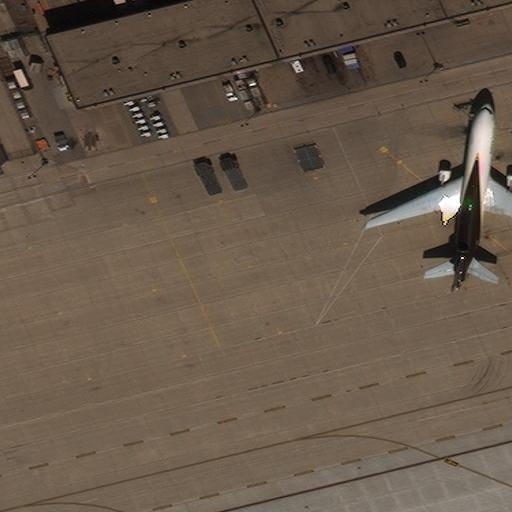Large Civil Transport: (366, 102, 511, 291)
